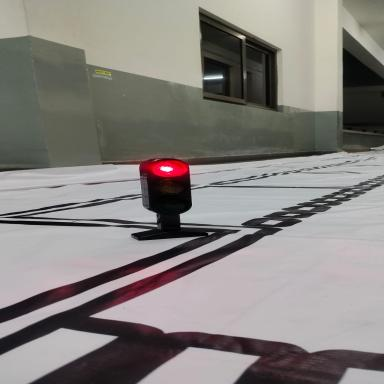traffic red: (139, 156, 207, 182)
